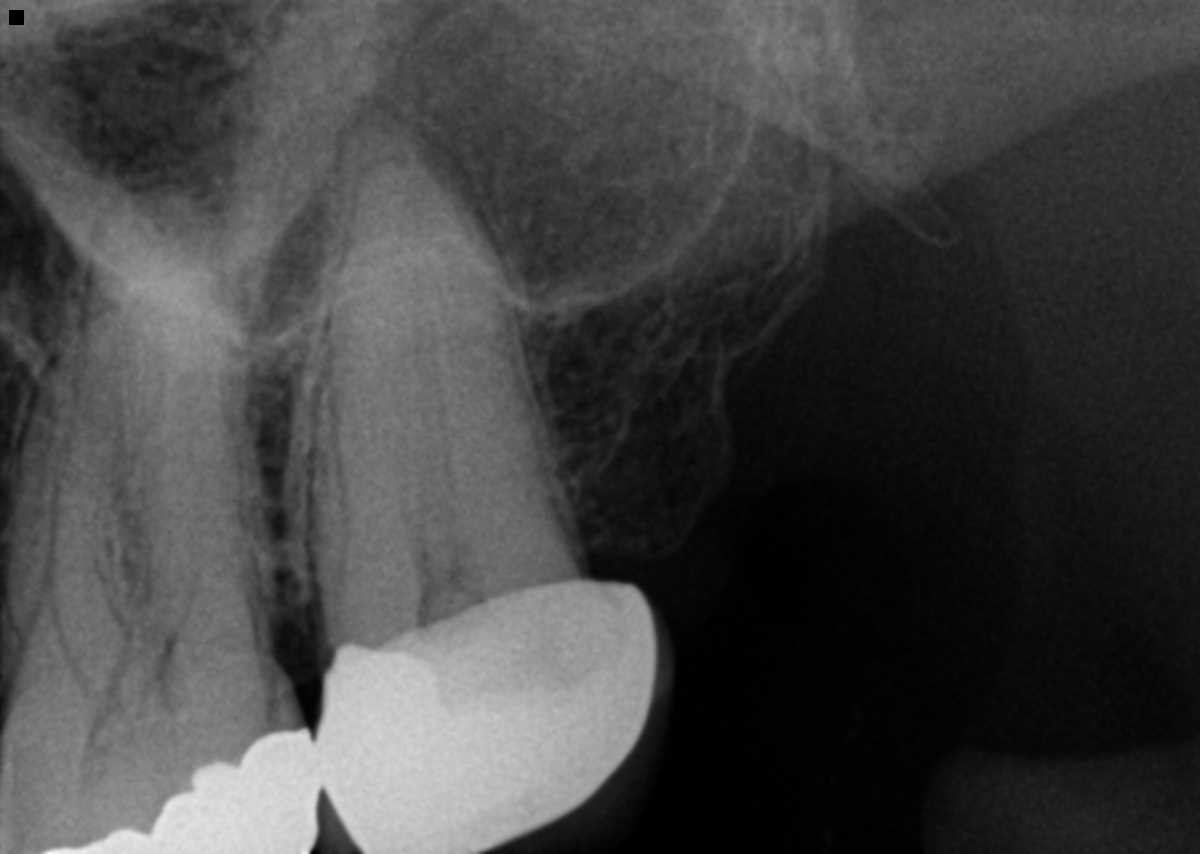Distal Root: (129, 273, 269, 652)
Main Canal: (410, 287, 466, 546)
Main Root: (305, 161, 554, 628)
Mesial Root: (0, 308, 139, 677)
Palatal Root: (286, 104, 579, 621), (54, 166, 225, 673)
